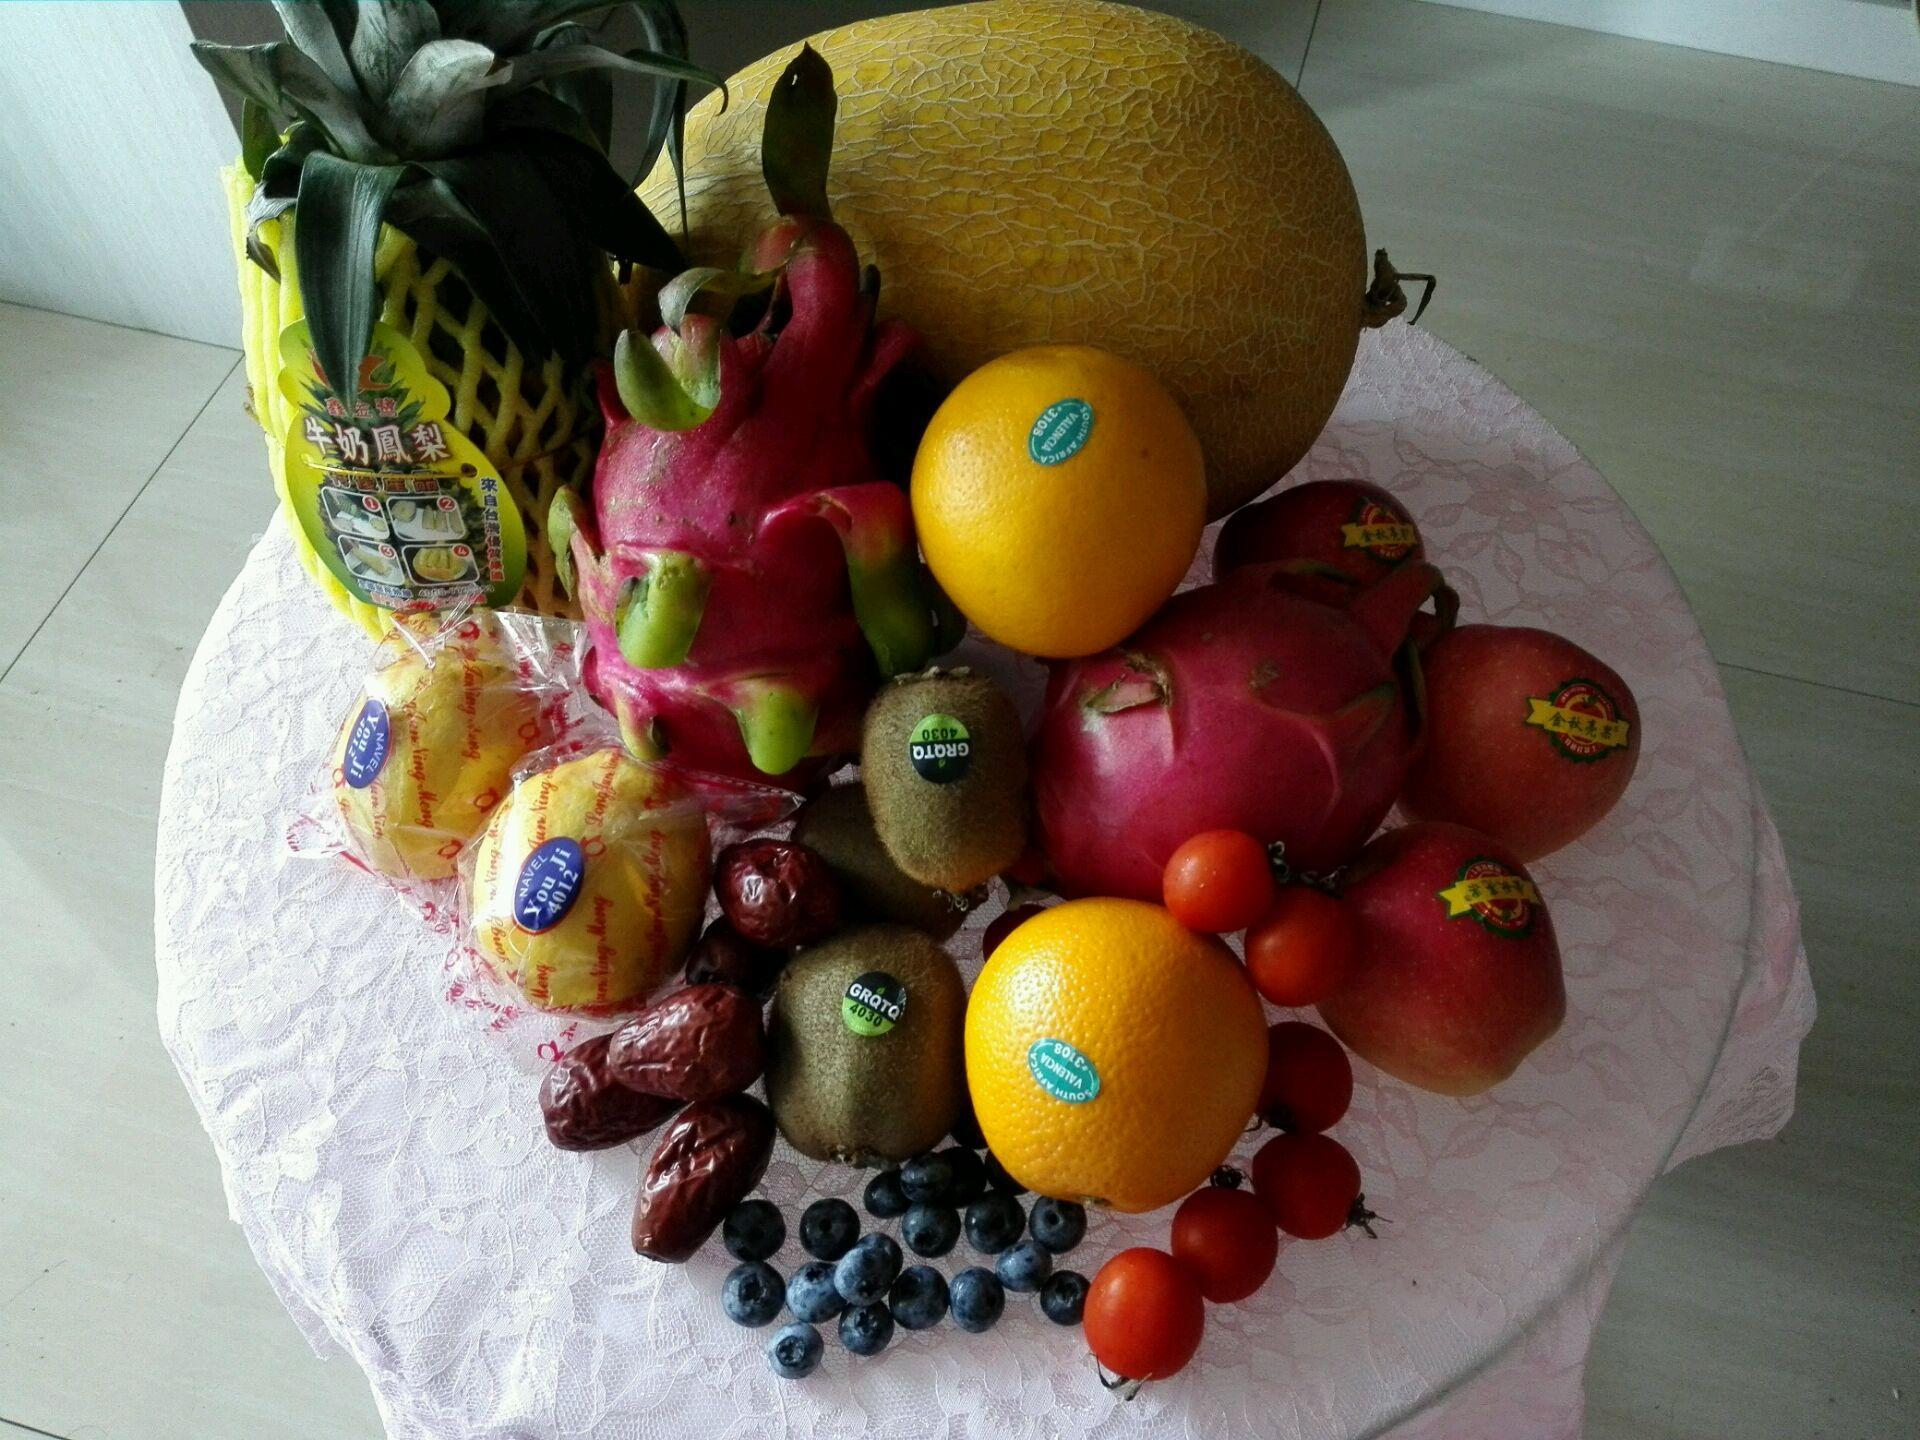apple: (1277, 829, 1565, 1100), (1400, 625, 1642, 867)
